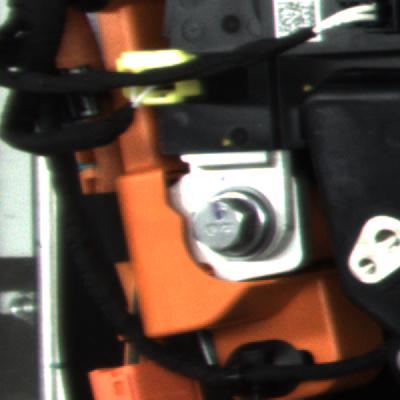nut_b: (187, 184, 288, 268)
